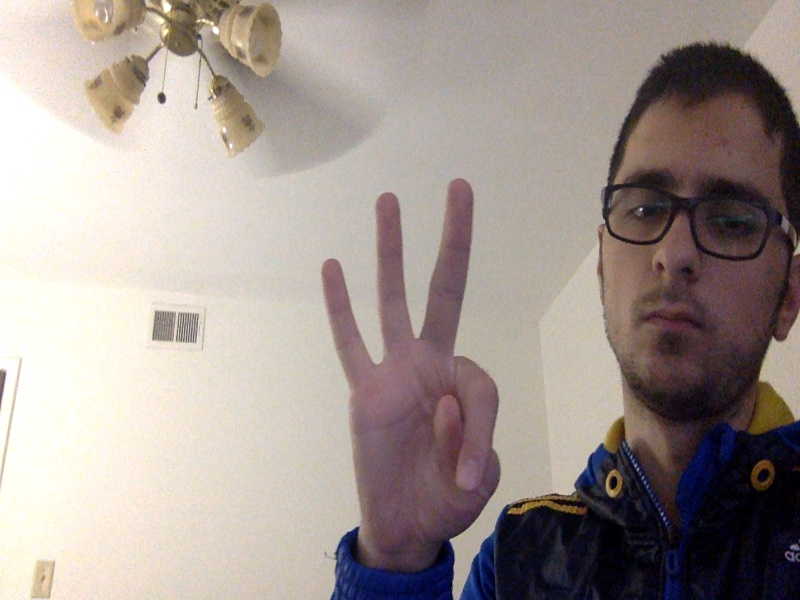3-hand: (323, 181, 503, 547)
